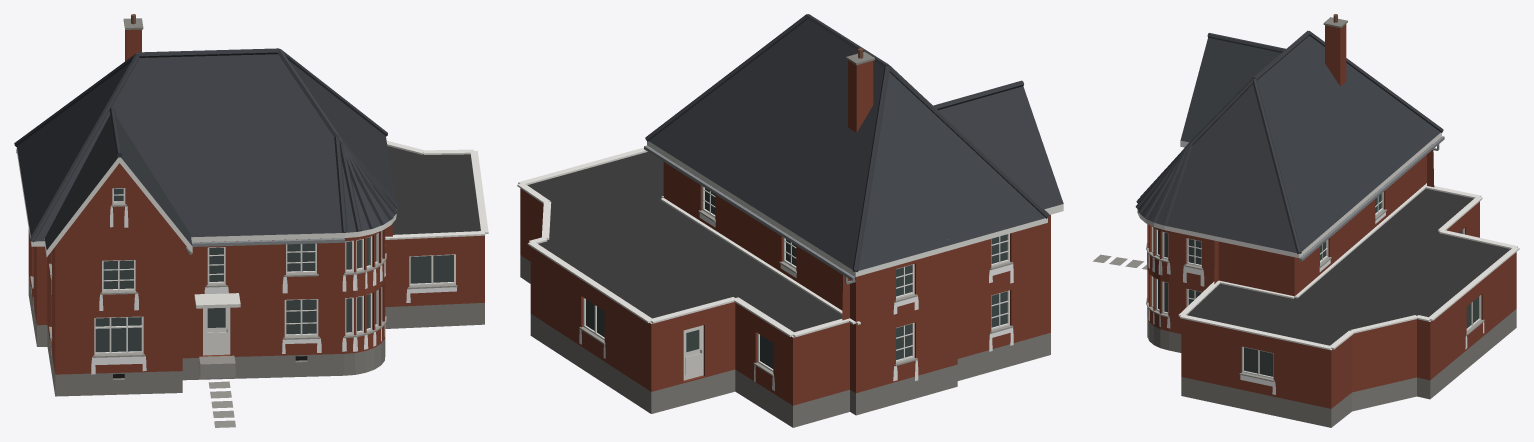
The model's file is vh_round_villa.glb.
3 views of the same model, side by side, from view 1: azimuth 30°, elevation 25°; view 2: azimuth 150°, elevation 25°; view 3: azimuth 270°, elevation 25° (orthographic). The views are drawn at different scales.
Visible parts, largest first — view 1: vh_roof, vh_brick, vh_stone, vh_glass, vh_frames_small, vh_trim, vh_streaks_small, vh_paving; view 2: vh_roof, vh_brick, vh_stone, vh_frames_small, vh_glass, vh_trim, vh_streaks_small; view 3: vh_roof, vh_stone, vh_brick, vh_frames_small, vh_glass, vh_trim, vh_streaks_small.
Boxes of the visible parts, x1,y1,x2,y2 form: vh_roof: (14, 48, 398, 249); vh_brick: (28, 29, 484, 374); vh_stone: (28, 14, 488, 396); vh_glass: (95, 188, 453, 352); vh_frames_small: (16, 149, 455, 355); vh_trim: (16, 147, 396, 378); vh_streaks_small: (31, 206, 456, 374); vh_paving: (208, 381, 235, 427); vh_roof: (645, 14, 1063, 272); vh_brick: (520, 60, 1050, 405); vh_stone: (517, 48, 1050, 427); vh_frames_small: (583, 145, 1009, 375); vh_glass: (586, 188, 1007, 368); vh_trim: (647, 141, 1063, 380); vh_streaks_small: (579, 213, 1013, 390); vh_roof: (1135, 30, 1443, 253); vh_stone: (1146, 14, 1519, 427); vh_brick: (1147, 24, 1516, 408); vh_frames_small: (1151, 136, 1481, 378); vh_glass: (1158, 194, 1478, 376); vh_trim: (1137, 132, 1441, 258); vh_streaks_small: (1147, 212, 1484, 394).
Bounding box in the file's own units: 21.47 × 13.04 × 18.74.
